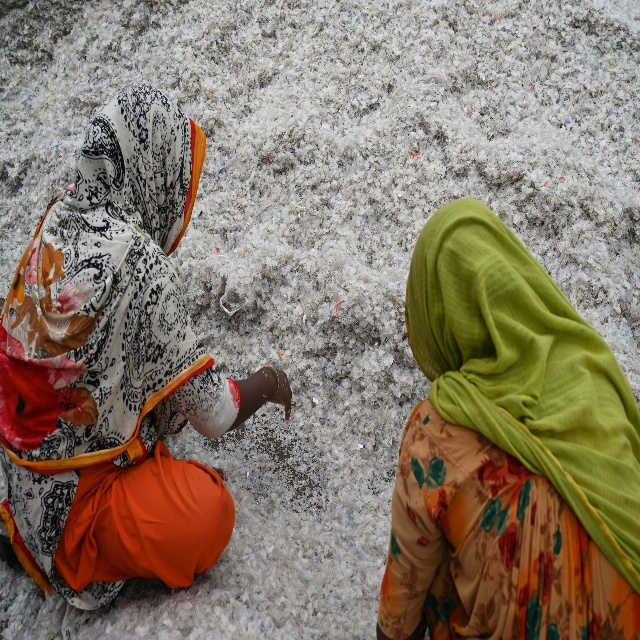Sin_guantes: (263, 364, 293, 423)
